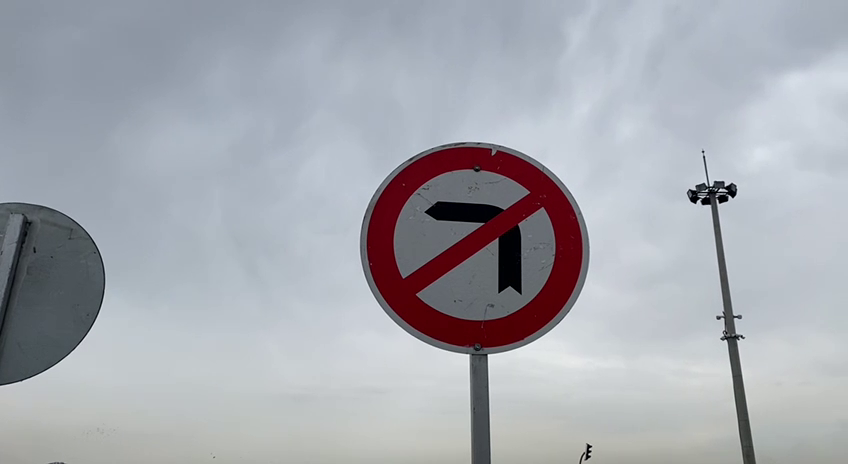noTurnLeft: (354, 136, 595, 359)
